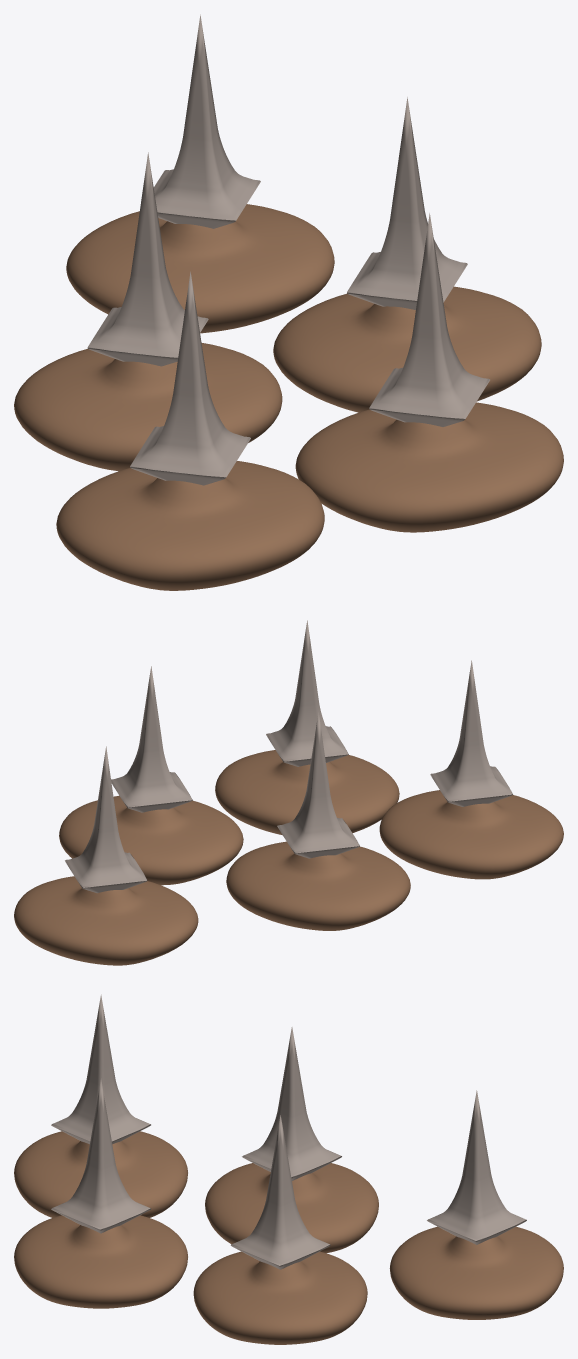
The model's file is tacks.glb.
3 renders of one model, top to bottom at view 1: azimuth 30°, elevation 25°; view 2: azimuth 150°, elevation 25°; view 3: azimuth 270°, elevation 25°, orthographic. The views are drawn at different scales.
Visible parts, largest first — view 1: Cube.001, Cube.002, Cube.004, Cube.003, Cube.005; view 2: Cube.004, Cube.003, Cube.001, Cube.005, Cube.002; view 3: Cube.002, Cube.005, Cube.004, Cube.003, Cube.001.
Boxes of the visible parts, x1,y1,x2,y2 form: Cube.001: (56,271,324,590); Cube.002: (295,213,563,532); Cube.004: (66,14,334,333); Cube.003: (14,152,282,471); Cube.005: (273,97,541,412); Cube.004: (14,746,198,965); Cube.003: (226,712,410,930); Cube.001: (379,660,563,879); Cube.005: (59,666,243,885); Cube.002: (215,620,399,835); Cube.002: (14,1078,187,1308); Cube.005: (193,1115,367,1344); Cube.004: (389,1090,563,1319); Cube.003: (205,1027,378,1253); Cube.001: (14,994,187,1217).
Size of the model in its own units: 2.41 by 1.2 by 2.76.
